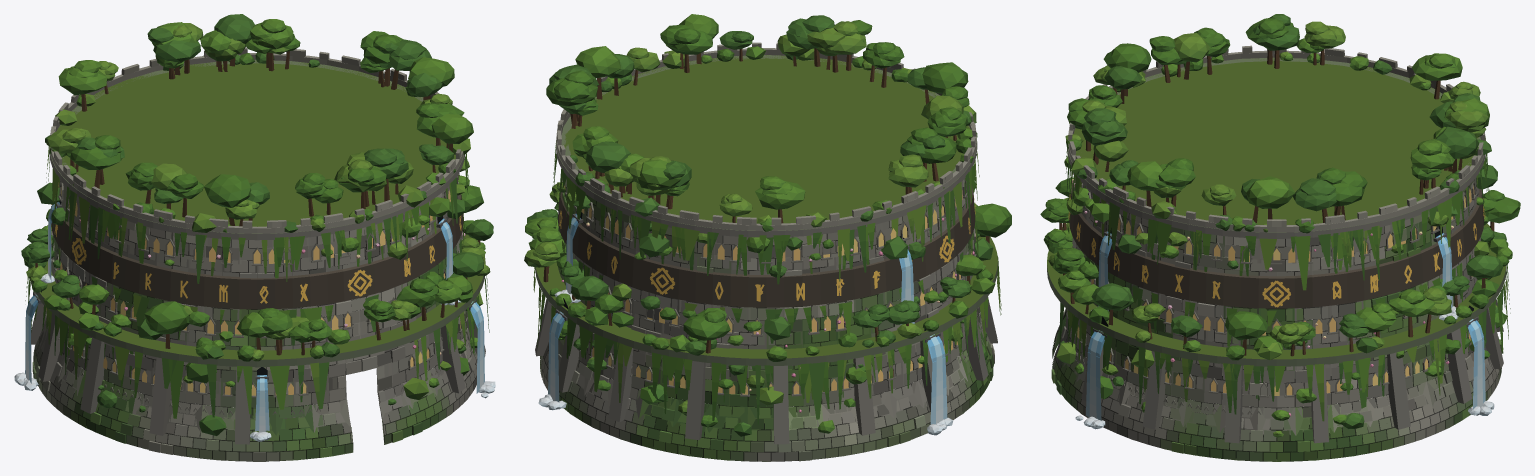
Rendered from WorldTower_1_Overgrown.fbx.
3 views of the same model, side by side, from view 1: azimuth 30°, elevation 25°; view 2: azimuth 150°, elevation 25°; view 3: azimuth 270°, elevation 25° (orthographic).
Visible parts, largest first — view 1: Body_Near, Body_Far; view 2: Body_Near, Body_Far; view 3: Body_Near, Body_Far.
Part boxes in pixels (x1=…): Body_Near: x1=14, y1=19, x2=495, y2=461; Body_Far: x1=18, y1=14, x2=495, y2=461; Body_Near: x1=524, y1=15, x2=1001, y2=461; Body_Far: x1=532, y1=14, x2=1011, y2=461; Body_Near: x1=1040, y1=14, x2=1520, y2=461; Body_Far: x1=1047, y1=33, x2=1508, y2=461.
Size of the model in its own units: 181 by 113 by 179.
